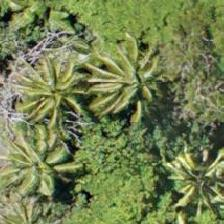Kelapa_Sawit: (6, 122, 96, 212), (14, 47, 104, 137), (84, 45, 174, 135), (151, 147, 224, 224)
